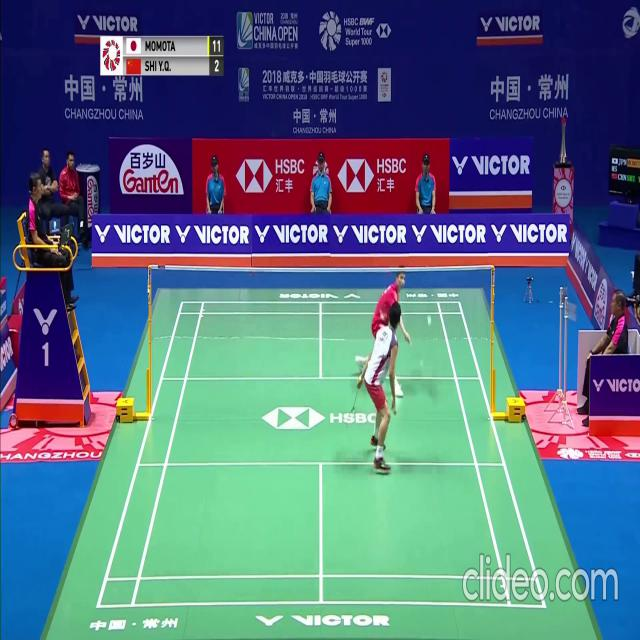Shuttlecock: (427, 316, 432, 324)
